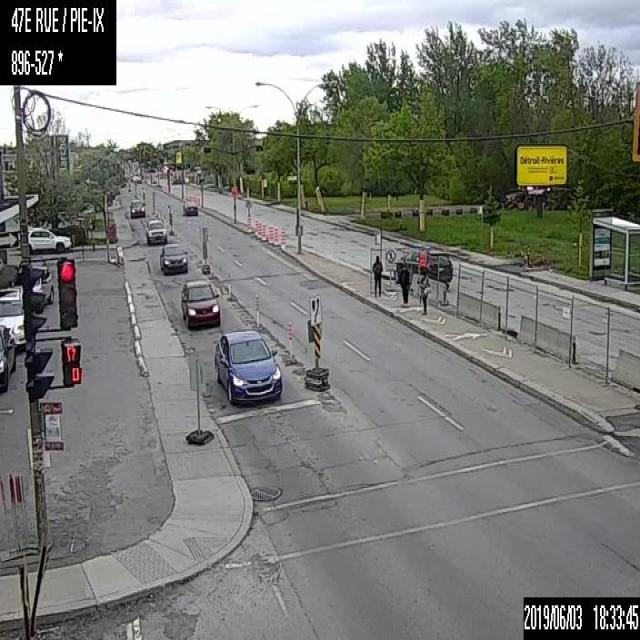construction: (288, 319, 294, 360), (227, 267, 232, 297), (256, 290, 259, 326), (260, 223, 266, 240), (254, 219, 259, 236), (280, 232, 285, 248), (274, 225, 278, 243), (268, 224, 272, 240), (246, 216, 250, 232)
pedestrian: (398, 262, 409, 302), (372, 253, 381, 299), (419, 270, 427, 314)
vehicle: (212, 328, 282, 405), (394, 247, 452, 290), (180, 277, 219, 328), (12, 259, 54, 305), (0, 285, 26, 347), (26, 226, 73, 253), (0, 326, 15, 388), (159, 243, 187, 273), (144, 218, 168, 244), (129, 198, 146, 218), (181, 202, 197, 215)
